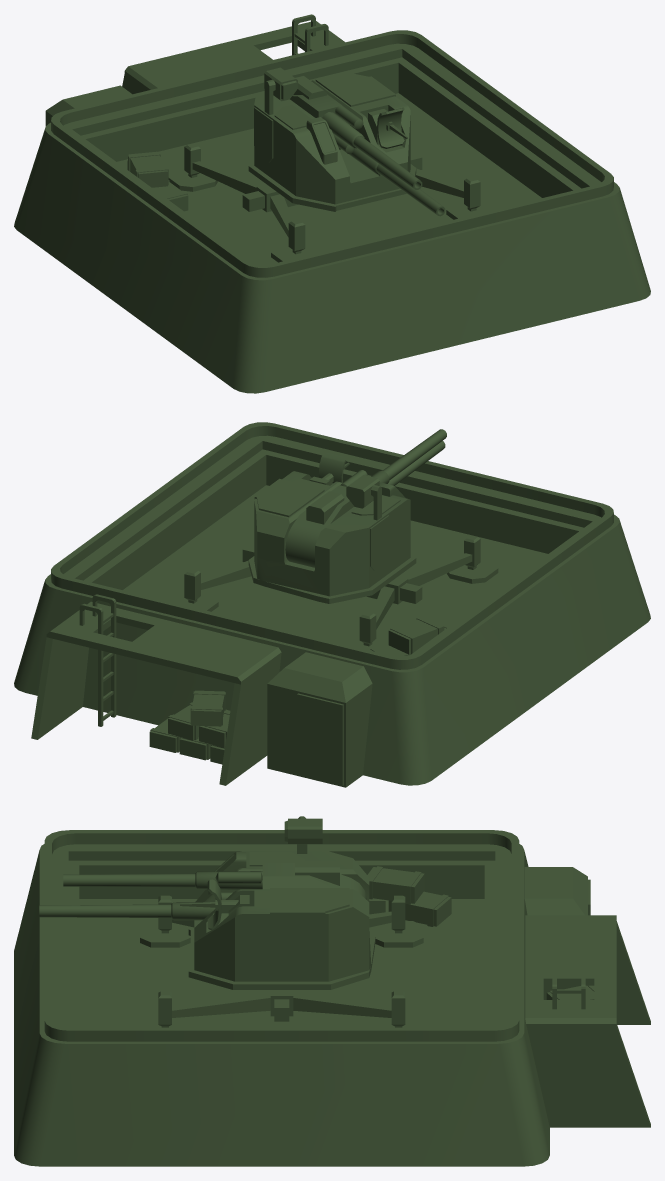
File: Ground_Air_Turret_Level2.fbx
The picture shows the model from 3 angles, top to bottom: view 1: azimuth 30°, elevation 25°; view 2: azimuth 150°, elevation 25°; view 3: azimuth 270°, elevation 25°; orthographic projection. The views are drawn at different scales.
Visible parts, largest first — view 1: Base.001, Turret.001, Breech.001, Gun2, Gun1, Radar.001, Camera.002; view 2: Base.001, Turret.001, Breech.001, Gun2, Camera.002, Radar.001, Gun1; view 3: Base.001, Turret.001, Breech.001, Gun2, Gun1, Camera.002, Radar.001.
Part boxes in pixels (box(x1,y1,x2,y2)): Base.001: box(14, 14, 650, 393); Turret.001: box(248, 72, 416, 211); Breech.001: box(290, 76, 363, 153); Gun2: box(322, 112, 422, 189); Gun1: box(348, 148, 445, 216); Radar.001: box(377, 107, 407, 148); Camera.002: box(264, 67, 297, 101); Base.001: box(14, 422, 650, 787); Turret.001: box(248, 471, 416, 603); Breech.001: box(285, 470, 367, 567); Gun2: box(371, 429, 446, 483); Camera.002: box(346, 475, 379, 508); Radar.001: box(318, 453, 349, 483); Gun1: box(388, 441, 445, 485); Base.001: box(14, 830, 650, 1166); Turret.001: box(188, 816, 375, 989); Breech.001: box(215, 861, 366, 899); Gun2: box(63, 871, 262, 889); Gun1: box(39, 902, 215, 920); Camera.002: box(284, 818, 322, 843); Radar.001: box(180, 879, 238, 929).
Bounding box in the file's own units: 480 × 206 × 570.
